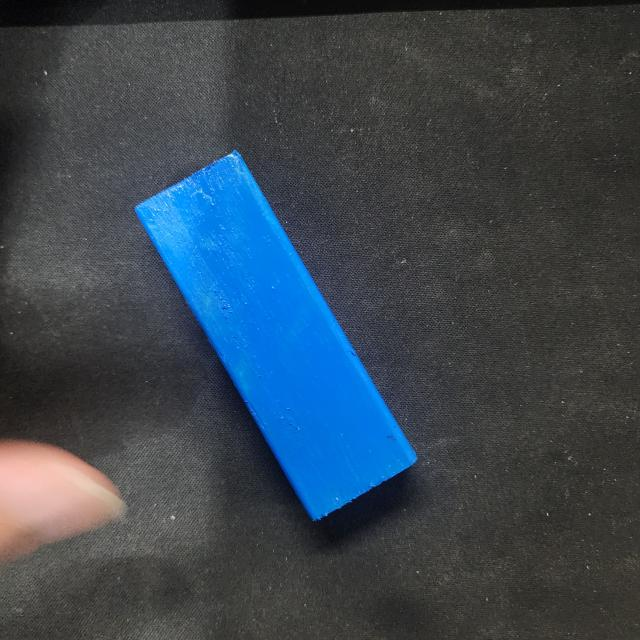blue: (133, 149, 419, 522)
